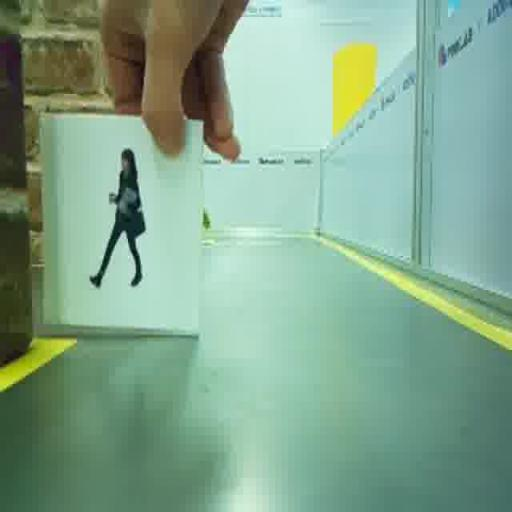human: (90, 148, 145, 287)
